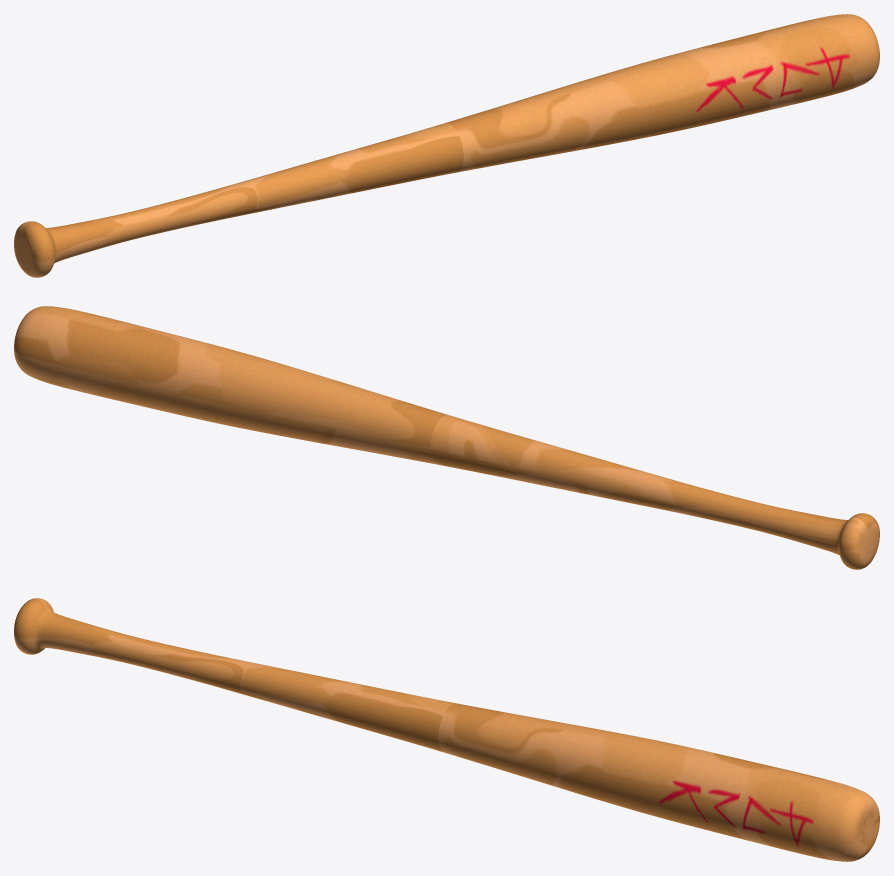
File: Bastao_Weapon1.fbx
The picture shows the model from 3 angles, top to bottom: view 1: azimuth 30°, elevation 25°; view 2: azimuth 150°, elevation 25°; view 3: azimuth 330°, elevation 25°; orthographic projection.
Visible parts, largest first — view 1: _Baseball_bat_v1_max2011_iteration_2:_Baseball_bat_v1_max8; view 2: _Baseball_bat_v1_max2011_iteration_2:_Baseball_bat_v1_max8; view 3: _Baseball_bat_v1_max2011_iteration_2:_Baseball_bat_v1_max8.
Boxes of the visible parts, bbox=[...] form: _Baseball_bat_v1_max2011_iteration_2:_Baseball_bat_v1_max8: bbox=[14, 14, 879, 277]; _Baseball_bat_v1_max2011_iteration_2:_Baseball_bat_v1_max8: bbox=[14, 306, 879, 569]; _Baseball_bat_v1_max2011_iteration_2:_Baseball_bat_v1_max8: bbox=[14, 598, 879, 861].
Size of the model in its own units: 78.21 by 6.3 by 6.3.
